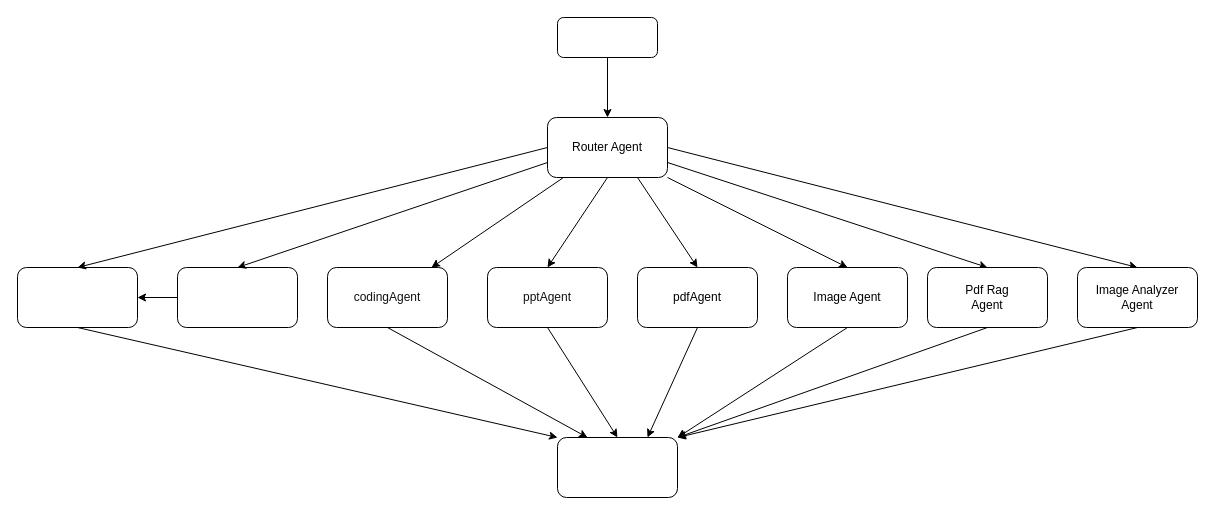
Some shapes in this 1215 by 515 pixel diagram are drawn without their labels. Here are the shapes that lost their labels. From the top down, the centre of each, then its label:
(607,37): start
(77,297): chatAgent
(237,297): searchAgent
(617,467): end
